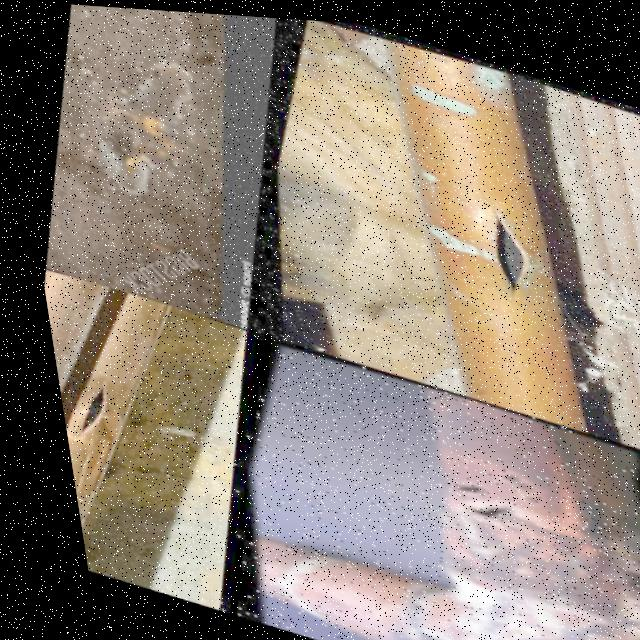hole: (428, 483, 500, 525), (465, 459, 527, 502), (421, 469, 473, 498)
rupture: (448, 187, 557, 304), (53, 373, 107, 449)
